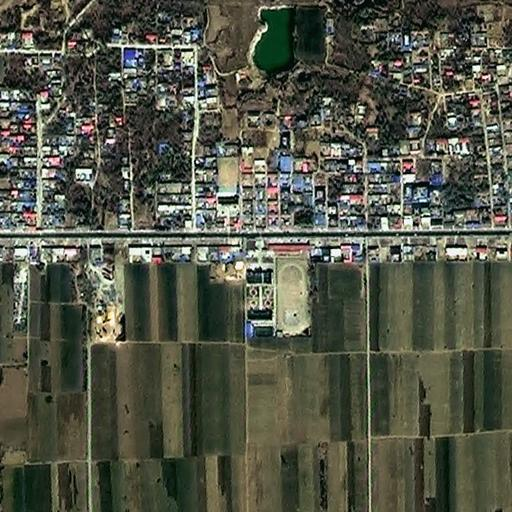school: (242, 255, 313, 340), (215, 147, 239, 231)
